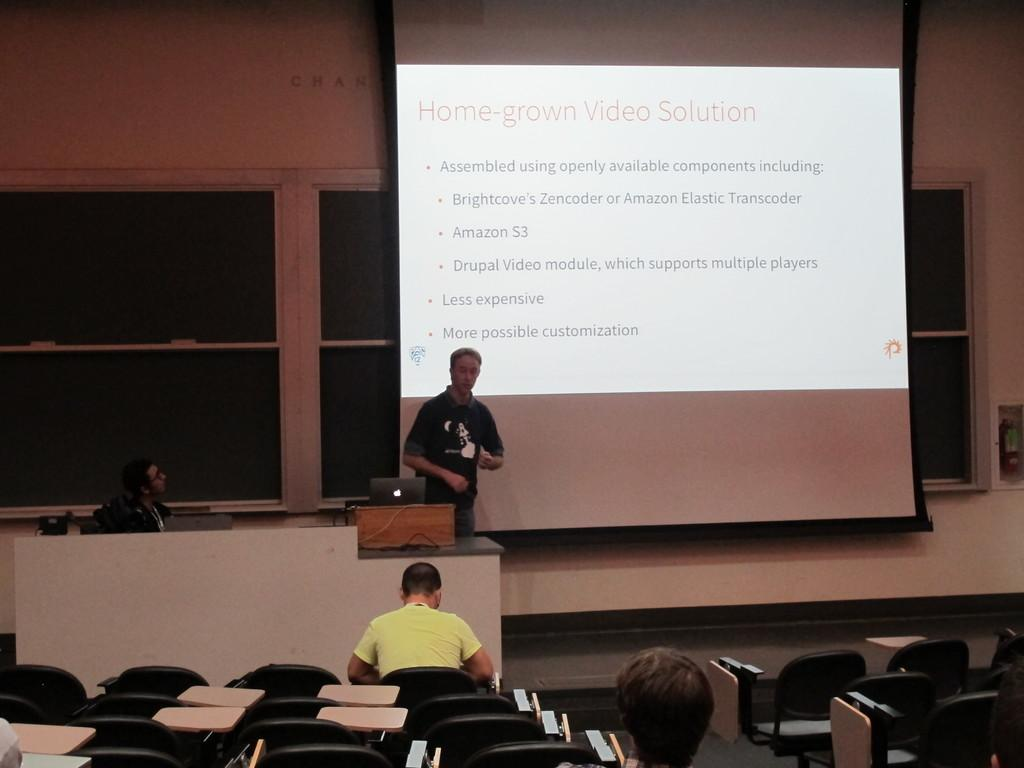Chair: (826, 673, 930, 767), (90, 701, 241, 764), (425, 707, 572, 767), (78, 678, 259, 721), (236, 708, 405, 750), (0, 663, 92, 729), (415, 684, 540, 732), (472, 728, 622, 767), (927, 695, 1008, 767), (888, 637, 977, 699), (373, 664, 497, 704), (246, 684, 396, 717), (259, 742, 425, 767), (106, 662, 209, 700), (232, 663, 342, 698), (4, 720, 93, 757), (973, 630, 1023, 688), (82, 749, 241, 767), (0, 692, 52, 724)
